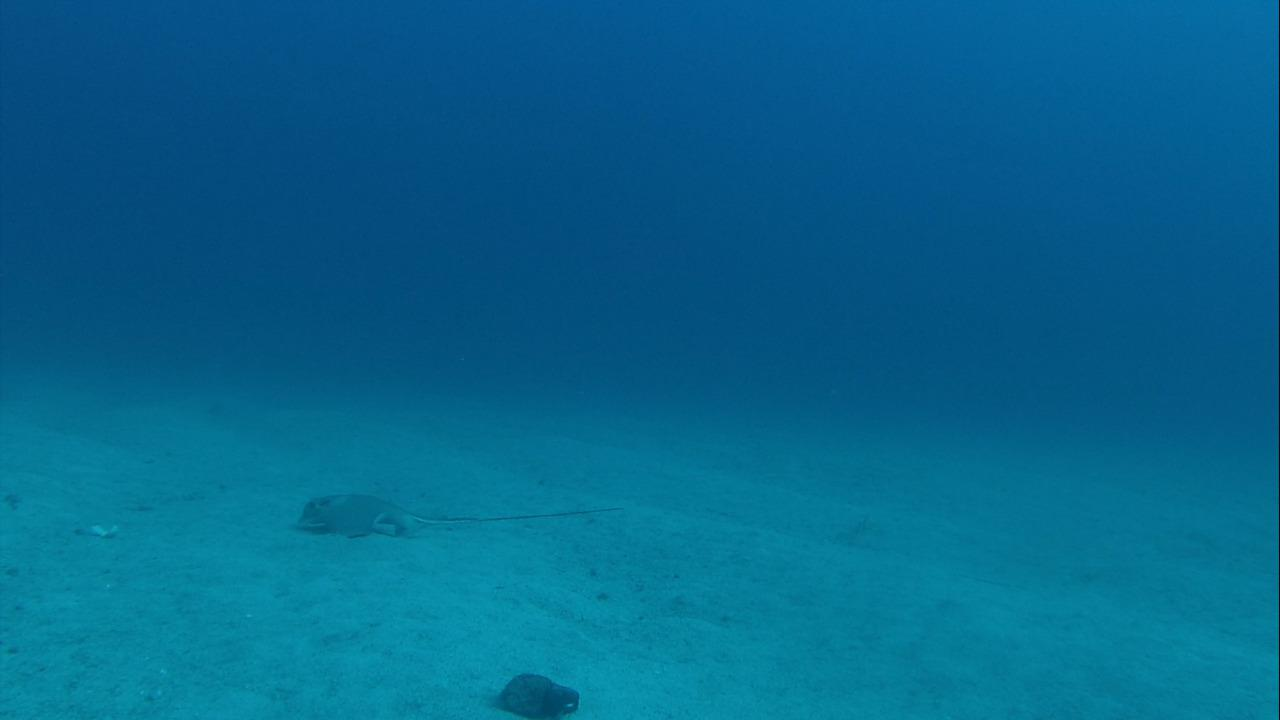myliobatis: (281, 485, 621, 543)
